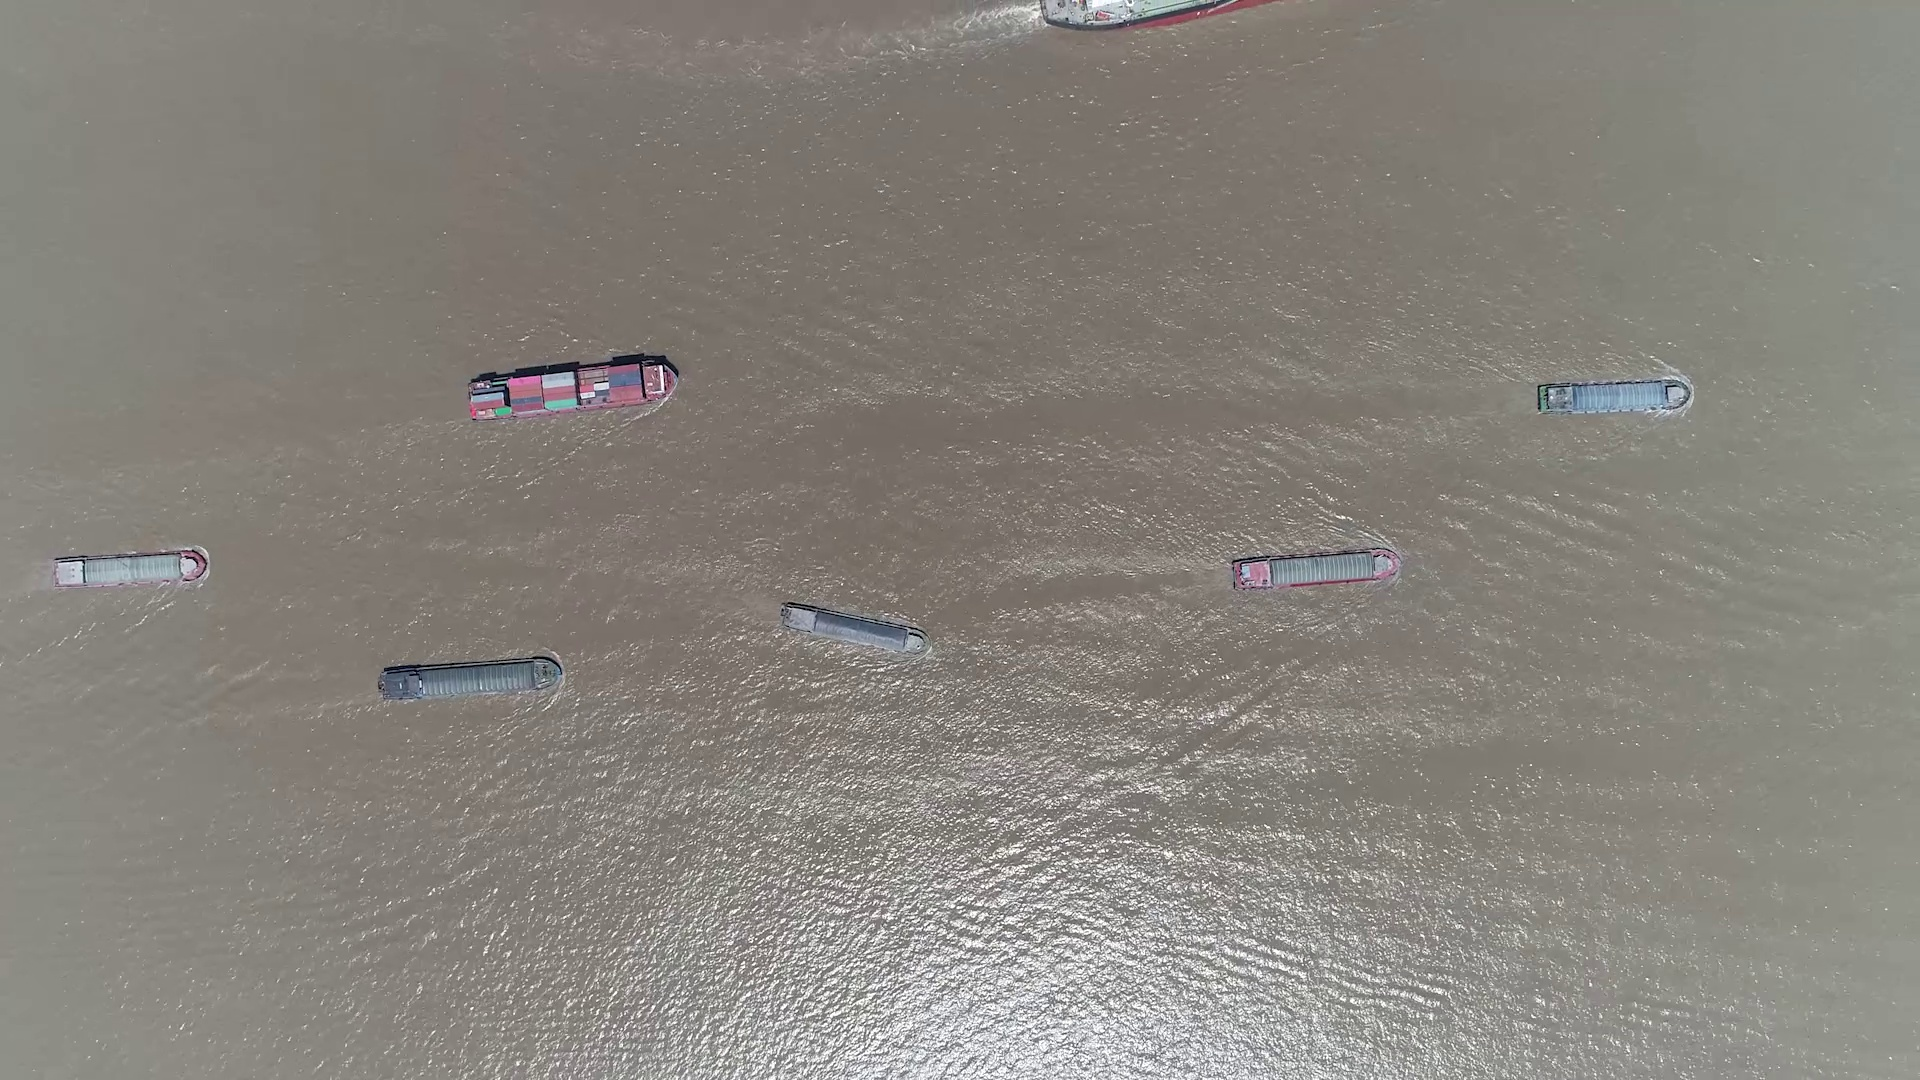ship: (467, 356, 679, 421), (378, 657, 560, 702), (781, 603, 928, 654), (1232, 549, 1402, 591), (1042, 3, 1273, 29), (51, 551, 208, 589), (1536, 381, 1689, 415)
